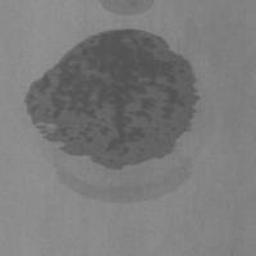Oil spot: (24, 27, 201, 205), (100, 0, 155, 17)
